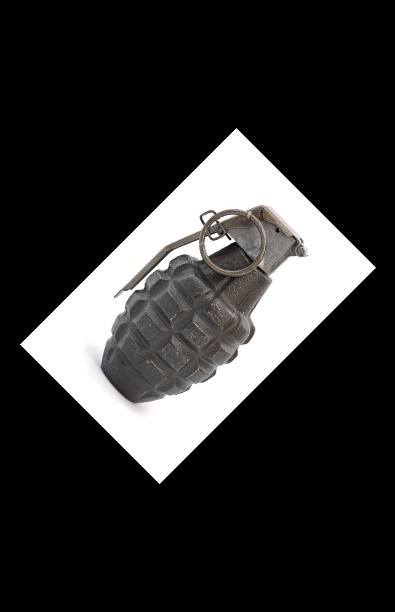e1: (99, 197, 315, 411)
